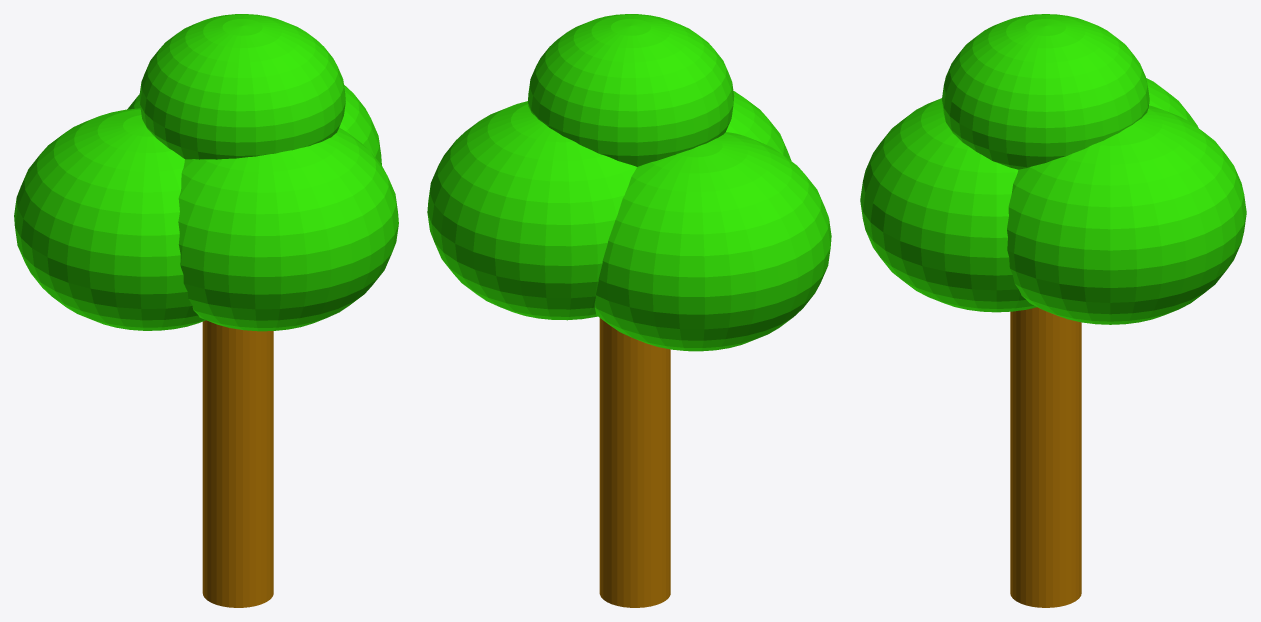
Rendered from TreeDummy.fbx.
The picture shows the model from 3 angles, left to right: view 1: azimuth 30°, elevation 25°; view 2: azimuth 150°, elevation 25°; view 3: azimuth 270°, elevation 25°; orthographic projection.
Visible parts, largest first — view 1: Cylinder; view 2: Cylinder; view 3: Cylinder.
Boxes of the visible parts, bbox=[...] form: Cylinder: bbox=[14, 14, 398, 607]; Cylinder: bbox=[427, 14, 831, 607]; Cylinder: bbox=[860, 14, 1246, 607].
Bounding box in the file's own units: 199 × 308 × 189.
